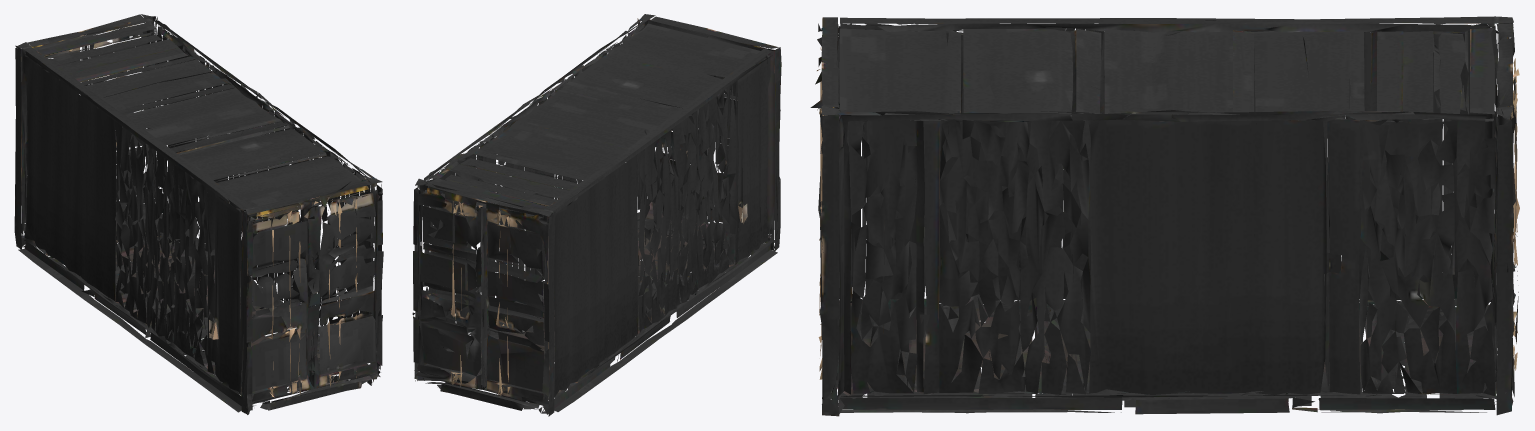
Rendered from Container.glb.
3 renders of one model, left to right at view 1: azimuth 30°, elevation 25°; view 2: azimuth 150°, elevation 25°; view 3: azimuth 270°, elevation 25°, orthographic. The views are drawn at different scales.
Parts seen in each view (by area): view 1: Container; view 2: Container; view 3: Container.
Boxes of the visible parts, x1,y1,x2,y2 form: Container: (14,14,383,414); Container: (412,14,781,416); Container: (810,16,1519,416).
Size of the model in its own units: 7.66 by 10.81 by 22.2.
1 material, 1 textured.
